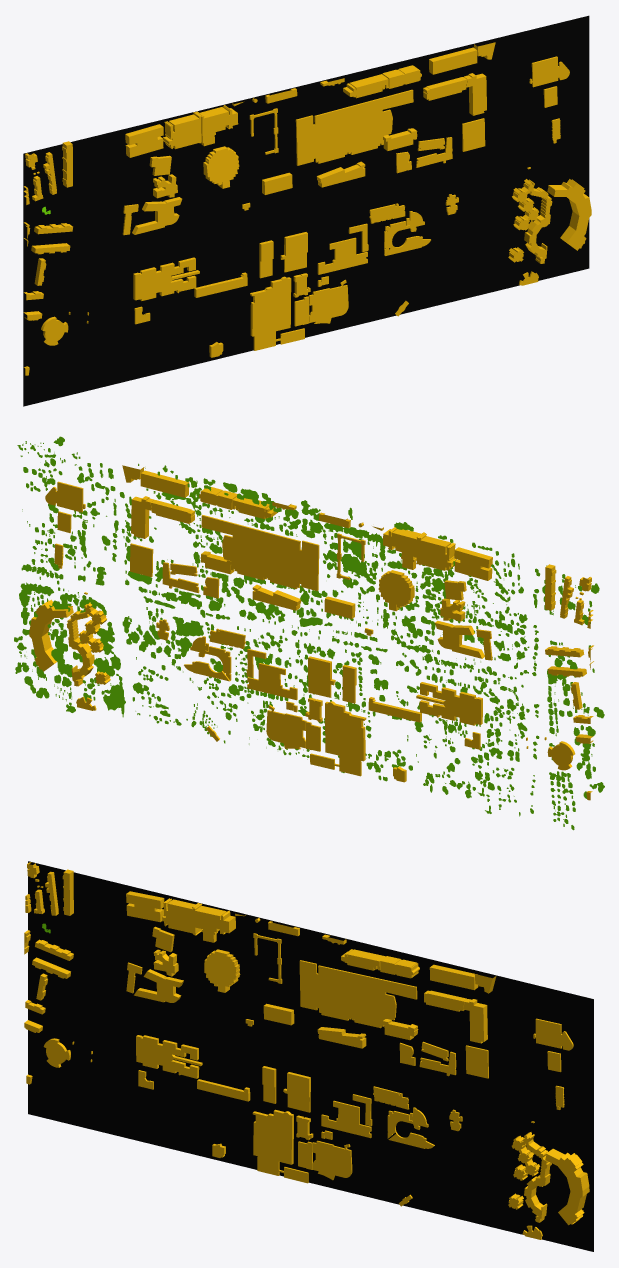
The model's file is new_trees_05.glb.
3 renders of one model, top to bottom at view 1: azimuth 30°, elevation 25°; view 2: azimuth 150°, elevation 25°; view 3: azimuth 330°, elevation 25°, orthographic.
Parts seen in each view (by area): view 1: Layer 04, existing_building - Copy; view 2: existing_building - Copy, new trees, treesurface; view 3: Layer 04, existing_building - Copy.
Boxes of the visible parts, box(x1,y1,x2,y2) form: Layer 04: box(23, 15, 589, 406); existing_building - Copy: box(23, 42, 591, 375); existing_building - Copy: box(29, 465, 593, 800); new trees: box(20, 441, 599, 828); treesurface: box(14, 436, 604, 830); Layer 04: box(28, 861, 593, 1251); existing_building - Copy: box(24, 862, 589, 1239).
Bounding box in the file's own units: 1035 × 458 × 20.85.
